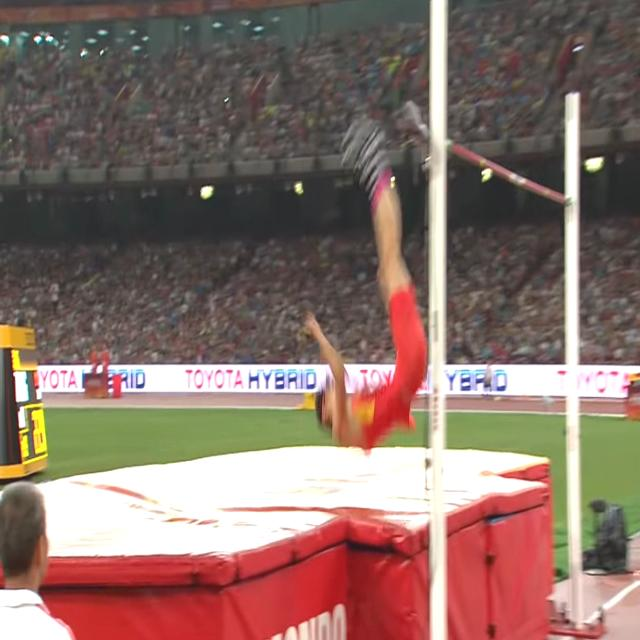land: (303, 118, 427, 446)
